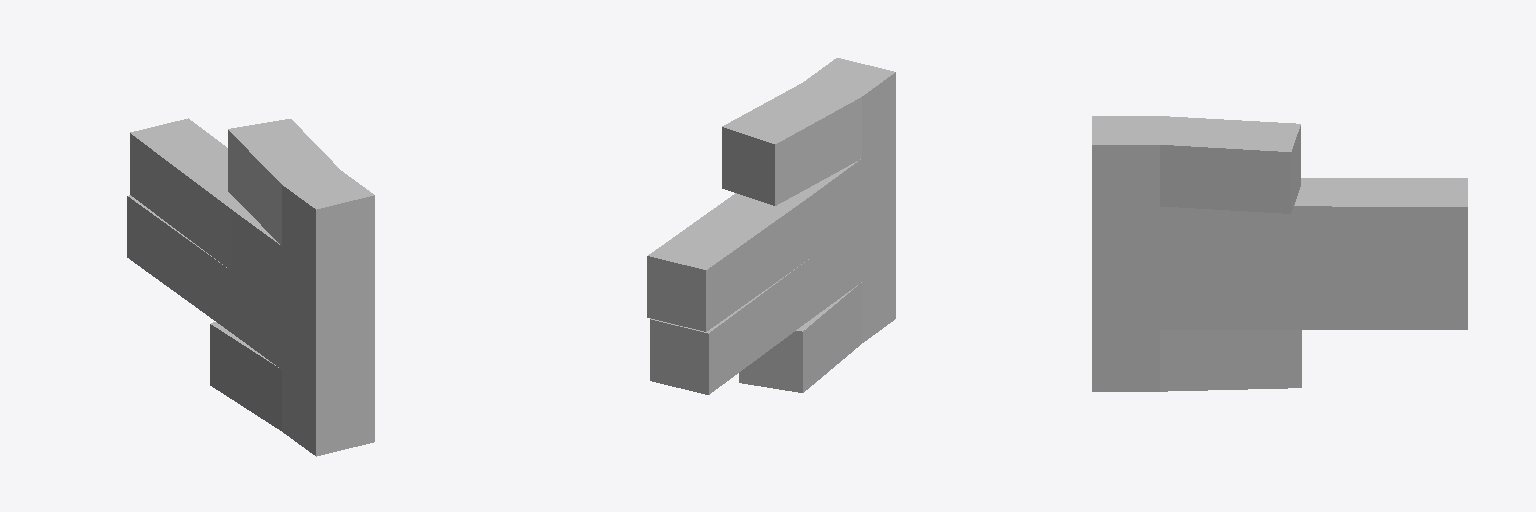
File: steve_body.obj
3 renders of one model, left to right at view 1: azimuth 30°, elevation 25°; view 2: azimuth 150°, elevation 25°; view 3: azimuth 270°, elevation 25°, orthographic.
Visible parts, largest first — view 1: body_Cube.001; view 2: body_Cube.001; view 3: body_Cube.001.
Part boxes in pixels (x1,y1,x2,y2): body_Cube.001: (127,118,374,456); body_Cube.001: (647,58,895,394); body_Cube.001: (1092,116,1467,391).
Bounding box in the file's own units: 0.3433 × 1 × 1.38.